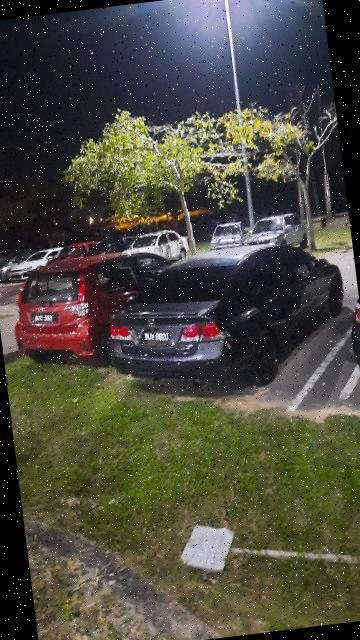License_Plate: (135, 321, 181, 352), (26, 305, 59, 329)
car: (98, 231, 357, 404), (8, 242, 206, 377)
